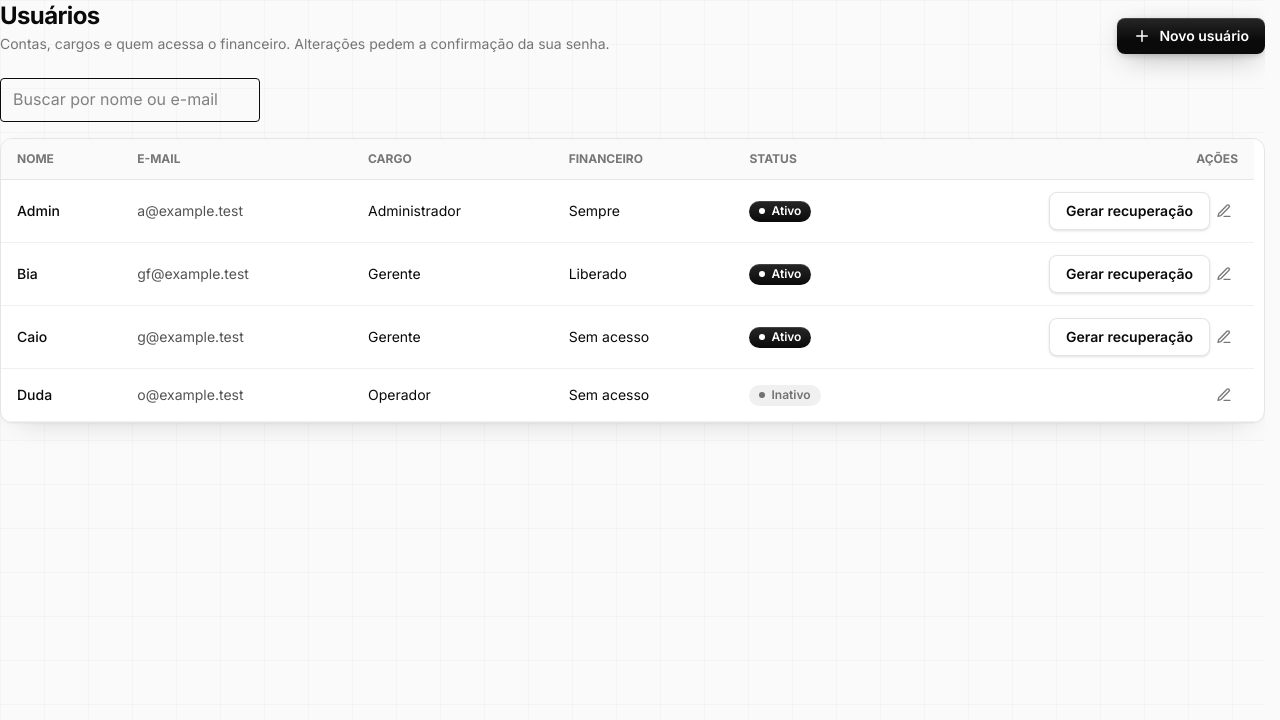
Scenario: UsuariosPage › mostra a recusa da API (ex.: último administrador) sem fechar o formulário
What coordinates should you click on to do the following:
click the button named "Editar acesso de Admin"
I would click on:
 (1224, 211)
Its box is [1210,192,1238,230].
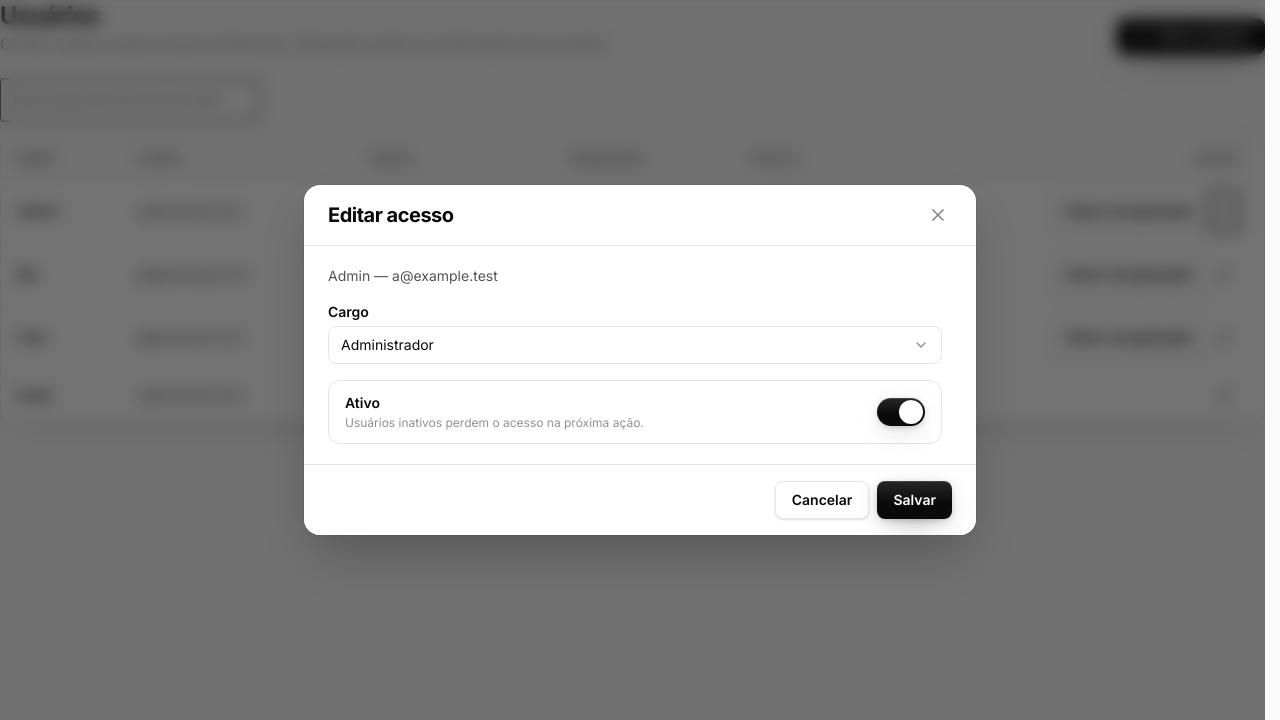
What coordinates should you click on to do the following:
click the checkbox labelled "Ativo"
I would click on:
 (362, 402)
Its box is [345,394,380,411].
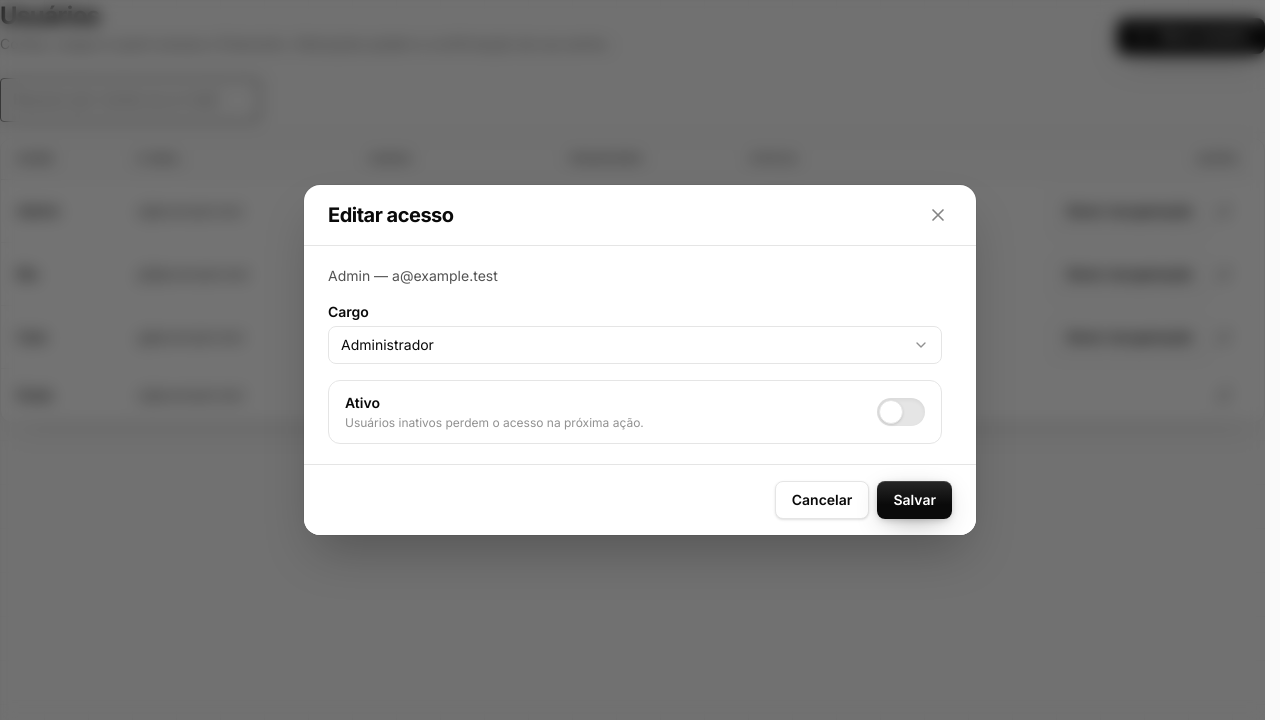
What coordinates should you click on to do the following:
click the button "Salvar"
I would click on:
 (915, 500)
Its box is [877,481,952,519].
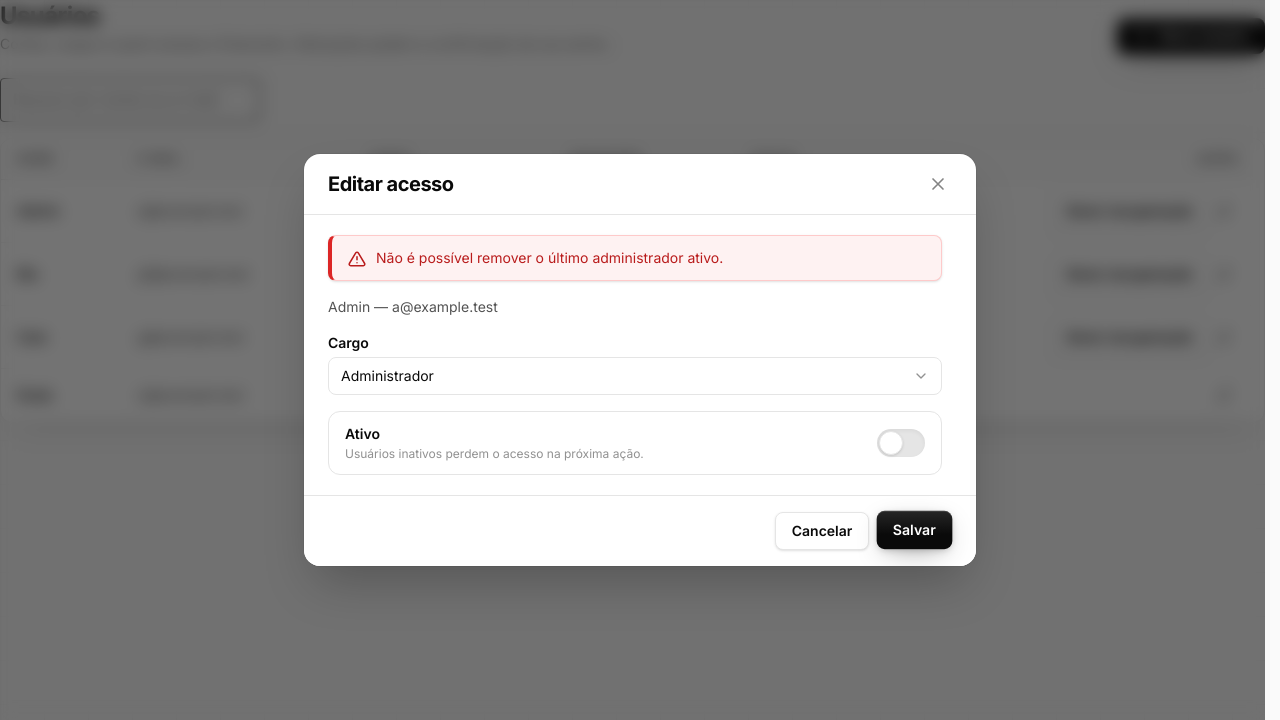
Expected: the text "Não é possível remover o último administrador ativo." is shown, [376,249,723,266]
